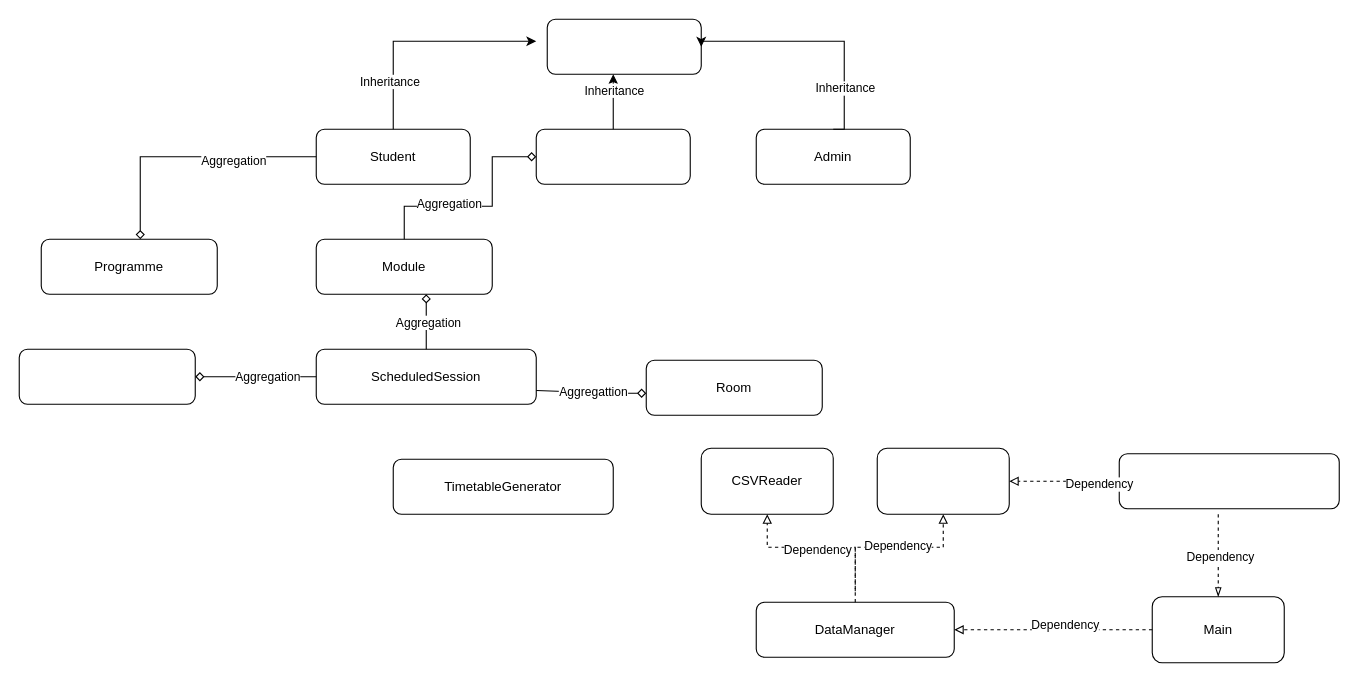
The diagram is 1359 pixels wide and 682 high, and some of its shapes have lost their labels. The shapes that lost their labels are listed below. From the top down, each one's centre as x and y in pixels, then its label:
At point 623,46: "User".
At point 612,156: "Lecturer".
At point 106,376: "Timeslot".
At point 942,480: "CSVWriter".
At point 1228,481: "TimetableController".
